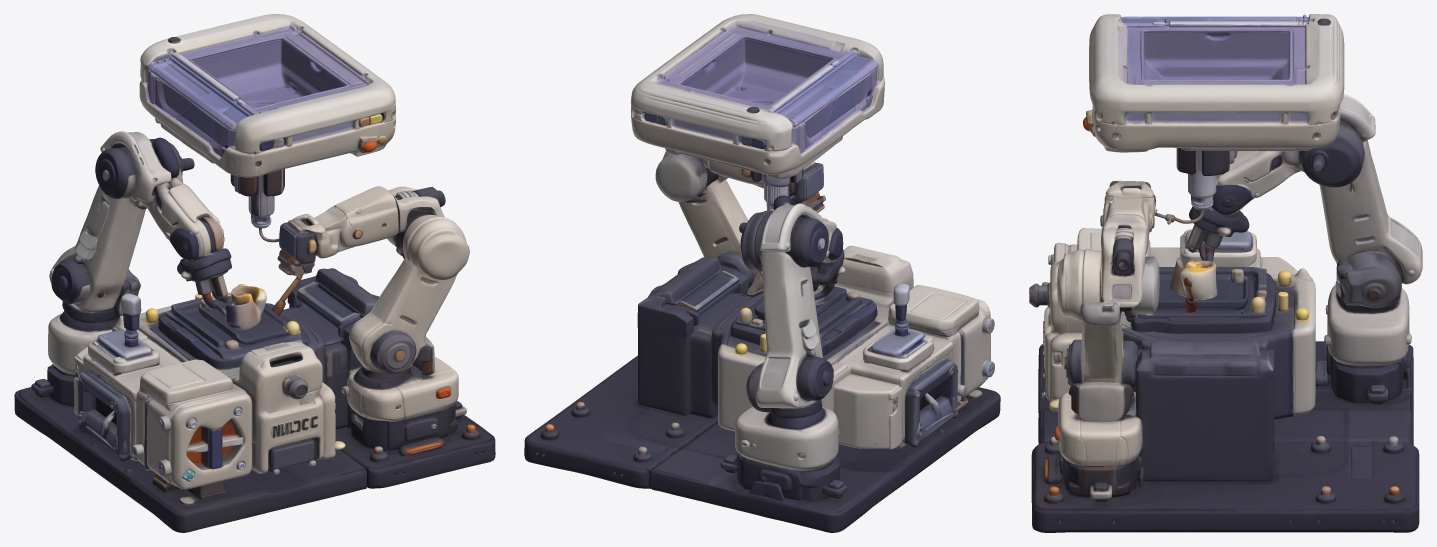
File: assembler.glb
The picture shows the model from 3 angles, left to right: view 1: azimuth 30°, elevation 25°; view 2: azimuth 150°, elevation 25°; view 3: azimuth 270°, elevation 25°; orthographic projection. The views are drawn at different scales.
Visible parts, largest first — view 1: FC_housing, FC_press; view 2: FC_housing, FC_press; view 3: FC_housing, FC_press.
Boxes of the visible parts, x1,y1,x2,y2 form: FC_housing: (14, 14, 495, 532); FC_press: (222, 169, 284, 241); FC_housing: (524, 14, 1000, 532); FC_press: (750, 169, 803, 210); FC_housing: (1029, 14, 1422, 532); FC_press: (1179, 150, 1237, 223).
Size of the model in its own units: 0.897 by 0.9784 by 0.8513.
Materials: 1 (1 with a texture image).
